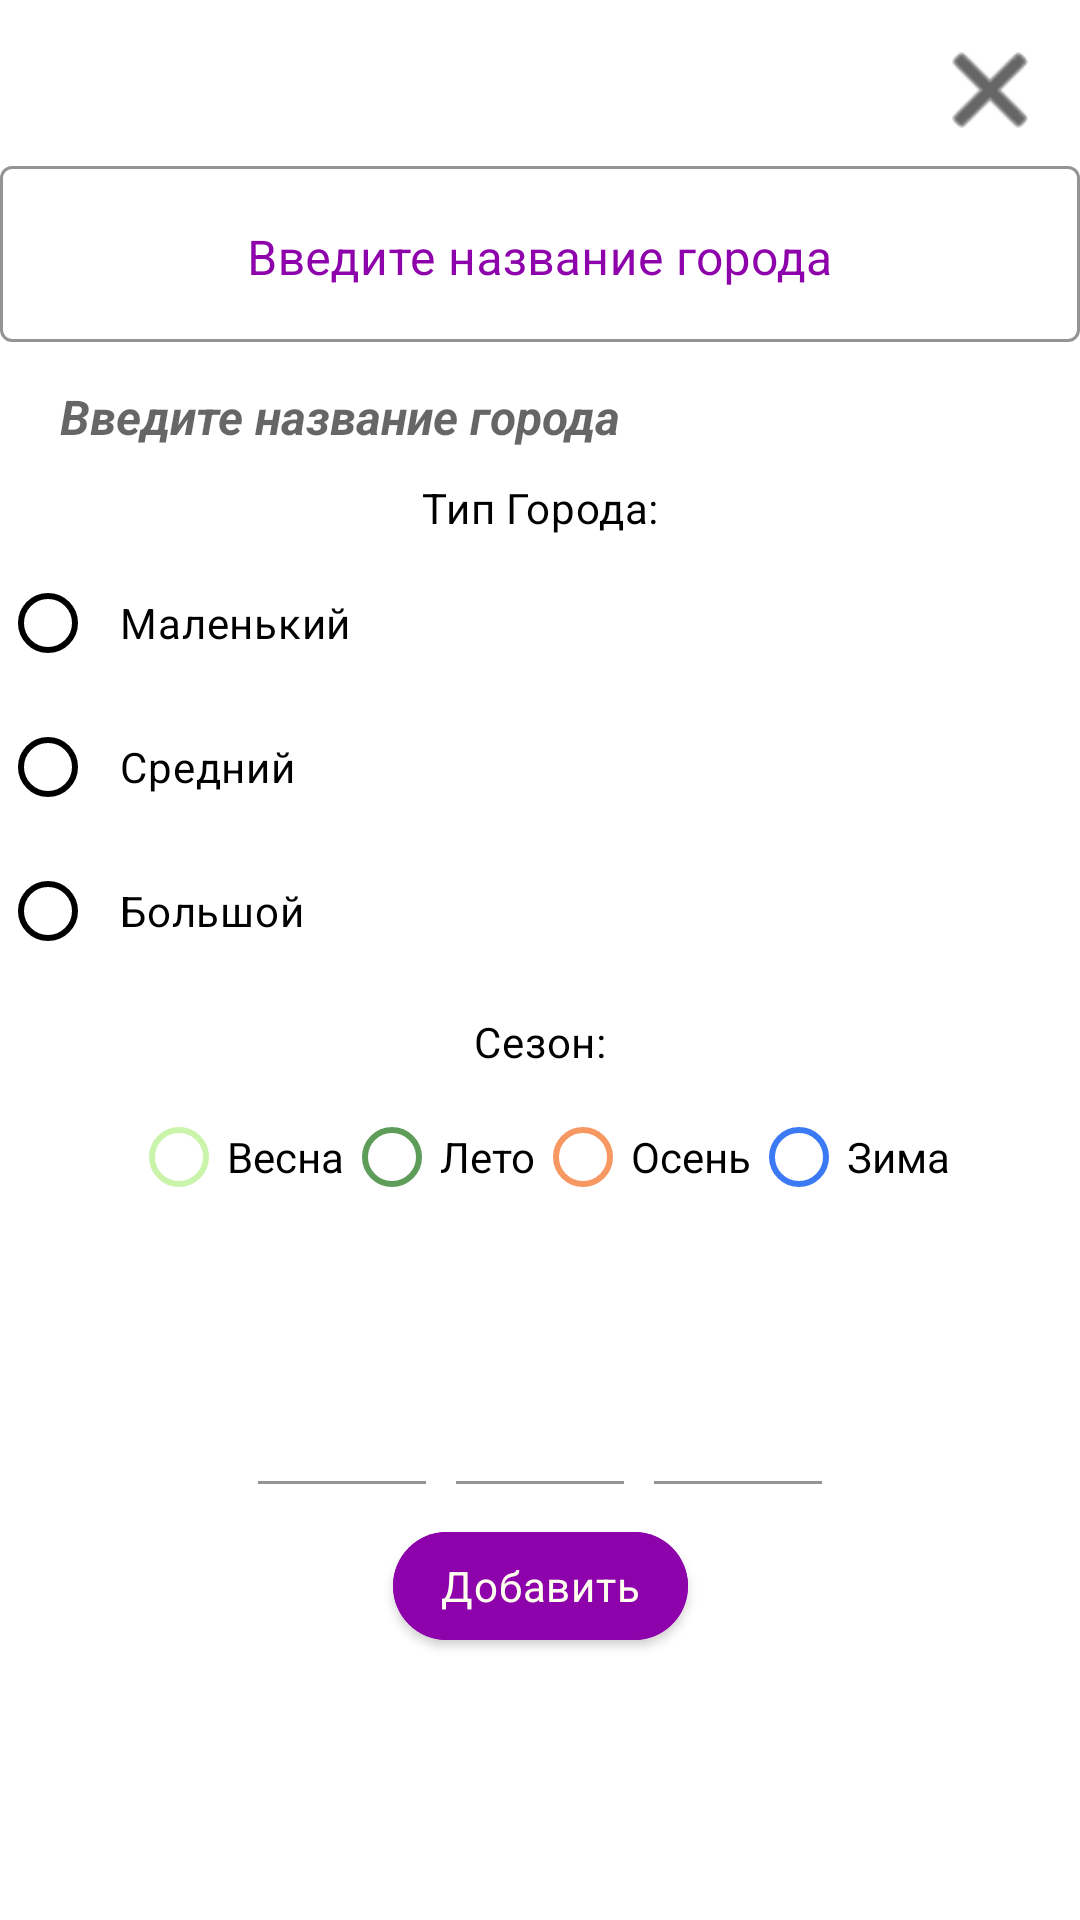

Point at icon controls on the screen. Image size 1080px×1920px, points as (x=x, y=y).
close clear cancel: (x=990, y=90)
